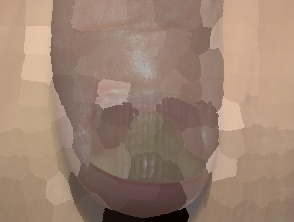Nail_psoriasis: (84, 111, 212, 185), (85, 80, 157, 118)
